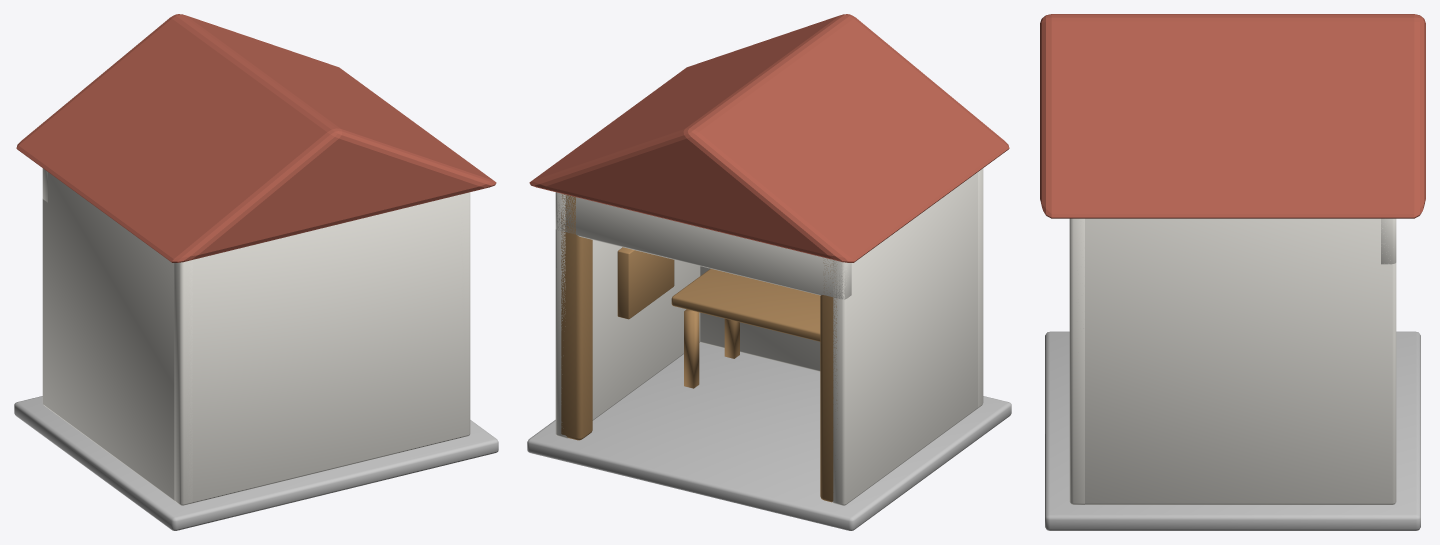
The model's file is pos.fbx.
3 views of the same model, side by side, from view 1: azimuth 30°, elevation 25°; view 2: azimuth 150°, elevation 25°; view 3: azimuth 270°, elevation 25° (orthographic). The views are drawn at different scales.
Parts seen in each view (by area): view 1: Wall_Back; view 2: Wall_Back; view 3: Wall_Back.
Boxes of the visible parts, left/top/right/bottom form: Wall_Back: left=14, top=14, right=498, bottom=530; Wall_Back: left=527, top=14, right=1011, bottom=530; Wall_Back: left=1040, top=14, right=1425, bottom=530.
Bounding box in the file's own units: 8.39 × 8.88 × 7.34.
